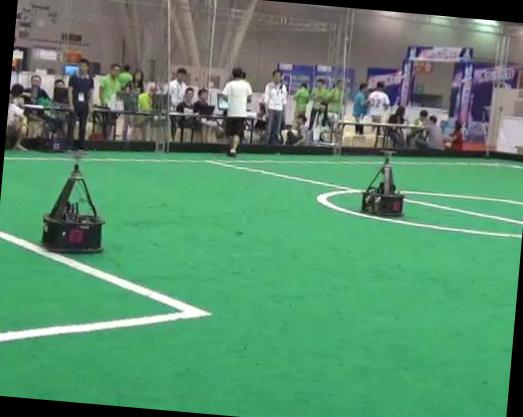blue_shirt: (361, 157, 403, 214)
person: (222, 67, 252, 155)
red_shirt: (41, 163, 103, 251)
robot: (41, 163, 103, 251)
